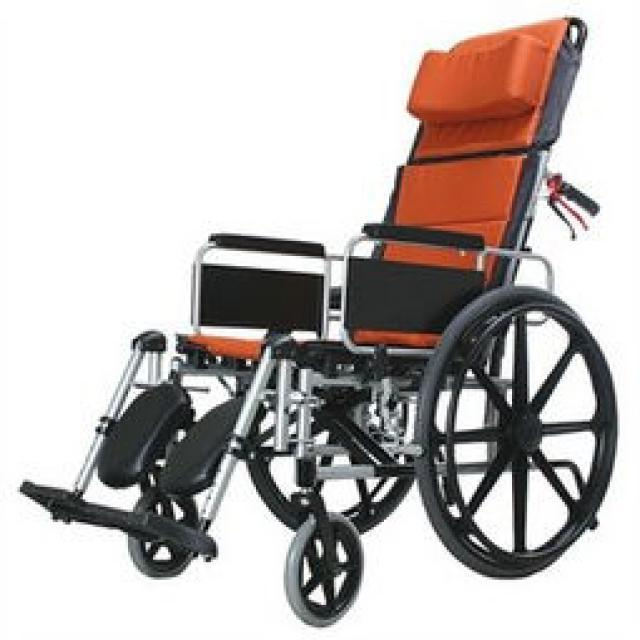wheelchair: (22, 12, 618, 630)
